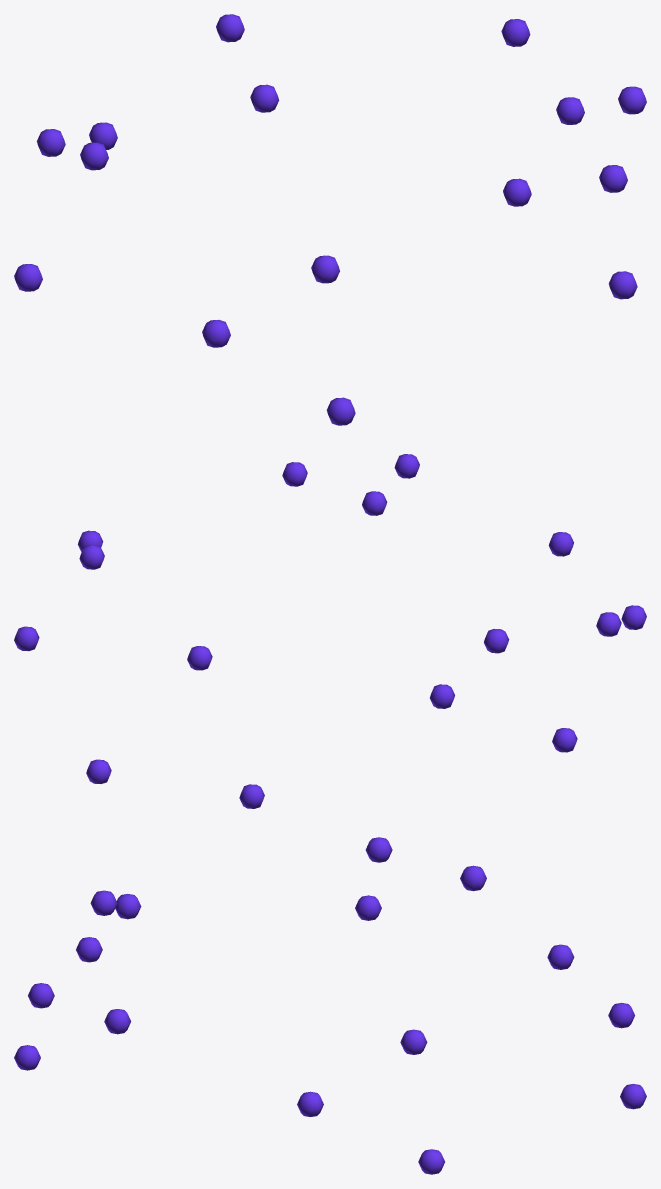
The model's file is Berries.fbx.
3 views of the same model, one above another, from view 1: azimuth 30°, elevation 25°; view 2: azimuth 150°, elevation 25°; view 3: azimuth 270°, elevation 25° (orthographic). The views are drawn at different scales.
Parts seen in each view (by area): view 1: Berries.005, Berries.004, Berries.002, Berries, Berries.003; view 2: Berries.005, Berries, Berries.003, Berries.004, Berries.002; view 3: Berries, Berries.002, Berries.004, Berries.003, Berries.005.
Boxes of the visible parts, box(x1,y1,x2,y2) form: Berries.005: box(202, 255, 355, 425); Berries.004: box(14, 129, 108, 291); Berries.002: box(501, 19, 646, 124); Berries: box(503, 165, 637, 299); Berries.003: box(89, 14, 279, 149); Berries.005: box(548, 532, 646, 636); Berries: box(282, 454, 419, 515); Berries.003: box(86, 646, 264, 808); Berries.004: box(430, 629, 577, 752); Berries.002: box(14, 530, 104, 651); Berries: box(14, 937, 131, 1070); Berries.002: box(297, 1029, 444, 1174); Berries.004: box(355, 837, 486, 920); Berries.003: box(547, 944, 646, 1109); Berries.005: box(28, 890, 141, 1008).
Bounding box in the file's own units: 209 × 58.65 × 211.
